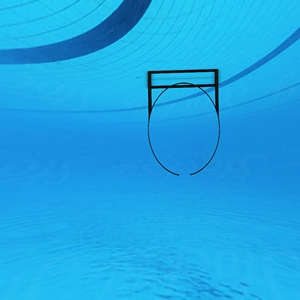circle: (144, 66, 226, 182)
